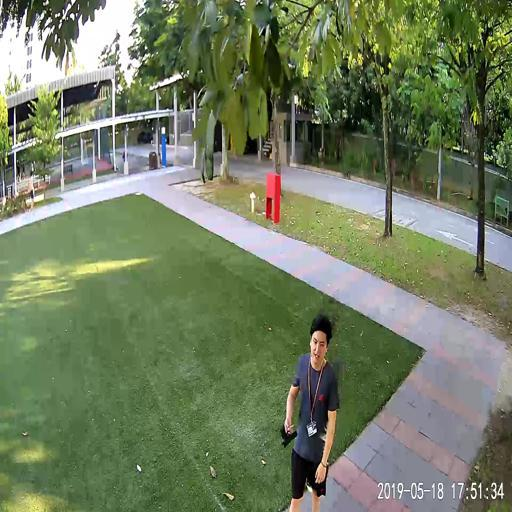Handgun: (278, 422, 297, 447)
